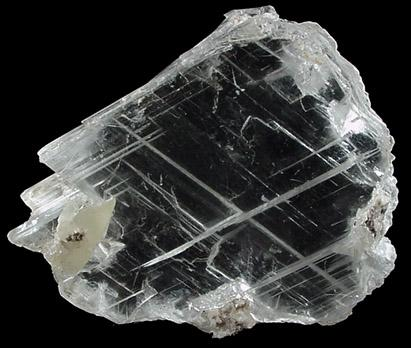gypsum: (8, 6, 399, 338)
